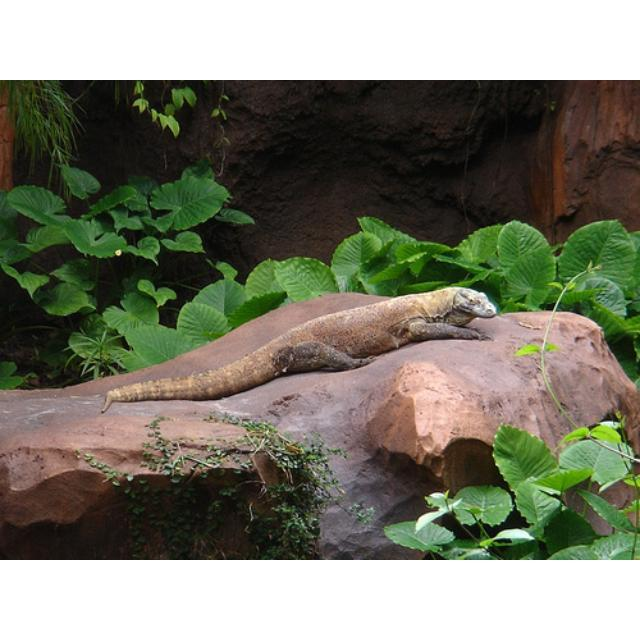KomodoDragon: (97, 281, 496, 419)
